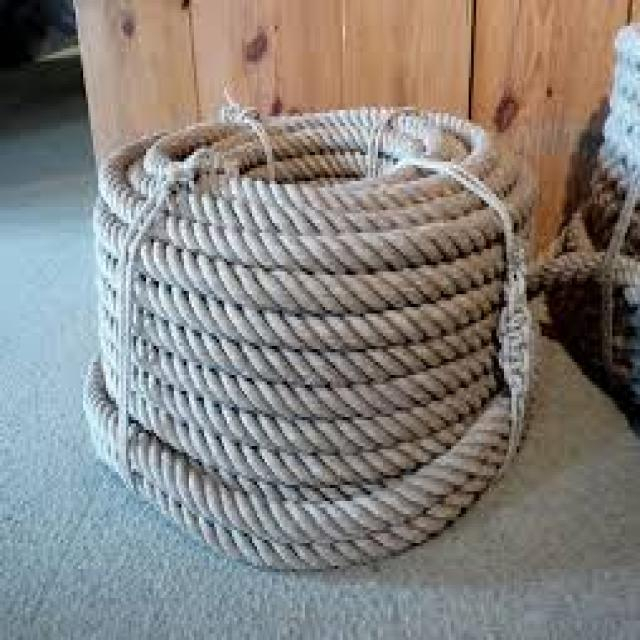Rope: (80, 82, 540, 585)
